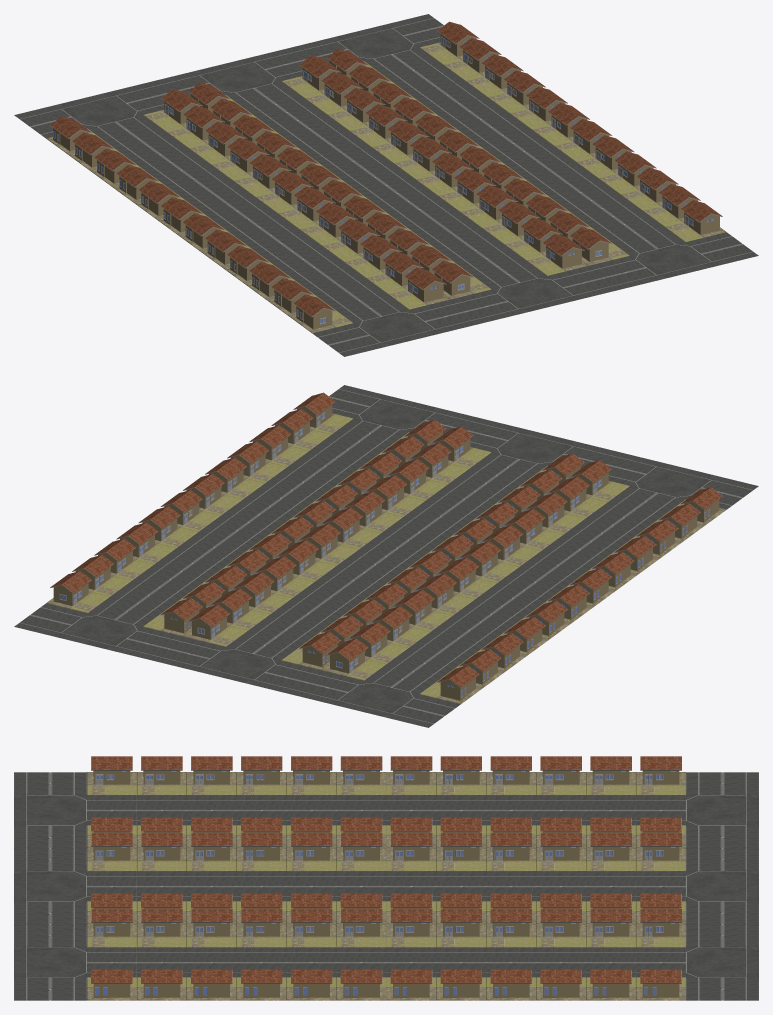
Rendered from neighbour_house.glb.
The picture shows the model from 3 angles, top to bottom: view 1: azimuth 30°, elevation 25°; view 2: azimuth 150°, elevation 25°; view 3: azimuth 270°, elevation 25°; orthographic projection. The views are drawn at different scales.
Parts seen in each view (by area): view 1: House.003, House.002, House.001, House.009, House.004; view 2: House.003, House.001, House.002, House.004, House.009; view 3: House.001, House.003, House.002, House.009, House.004.
Part boxes in pixels (x1,y1,x2,y2): House.003: (46, 89, 449, 333); House.002: (188, 55, 587, 299); House.001: (326, 21, 726, 265); House.009: (312, 232, 758, 356); House.004: (14, 14, 443, 138); House.003: (323, 460, 726, 704); House.001: (46, 392, 446, 636); House.002: (185, 426, 584, 670); House.004: (14, 603, 460, 727); House.009: (329, 385, 758, 509); House.001: (87, 908, 685, 1000); House.003: (87, 756, 685, 848); House.002: (87, 832, 685, 924); House.009: (14, 772, 86, 1000); House.004: (686, 772, 758, 1000).
Size of the model in its own units: 88.32 by 4.22 by 122.
2 materials, 2 textured.
